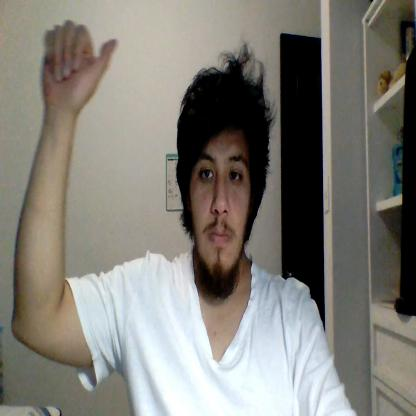A: (41, 20, 118, 110)
